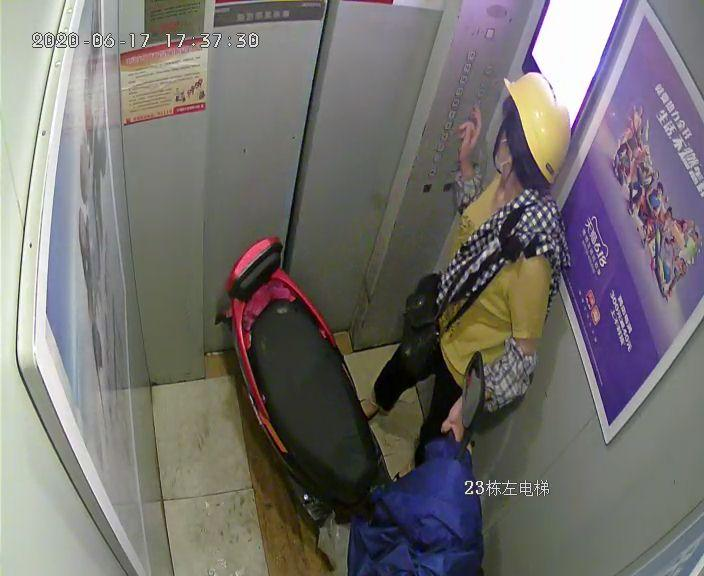Electric-bicycle: (221, 235, 486, 575)
